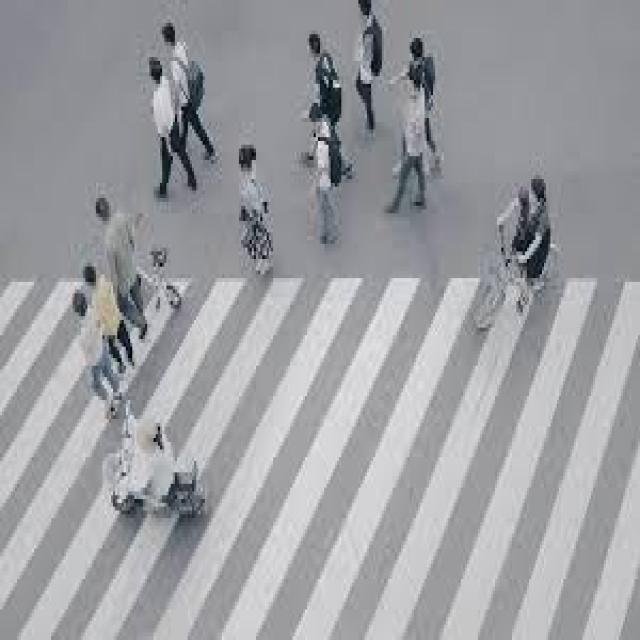Pedestrians: (143, 50, 203, 198), (160, 23, 220, 160), (94, 198, 149, 343), (388, 53, 431, 217), (68, 290, 122, 415), (230, 141, 280, 274), (303, 99, 346, 248), (350, 4, 386, 145), (307, 27, 344, 133)
